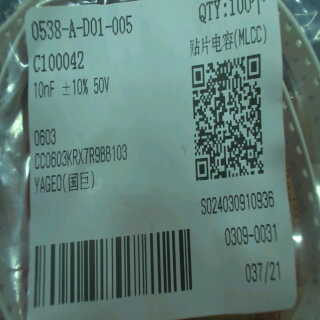10nF: (29, 79, 59, 101)
